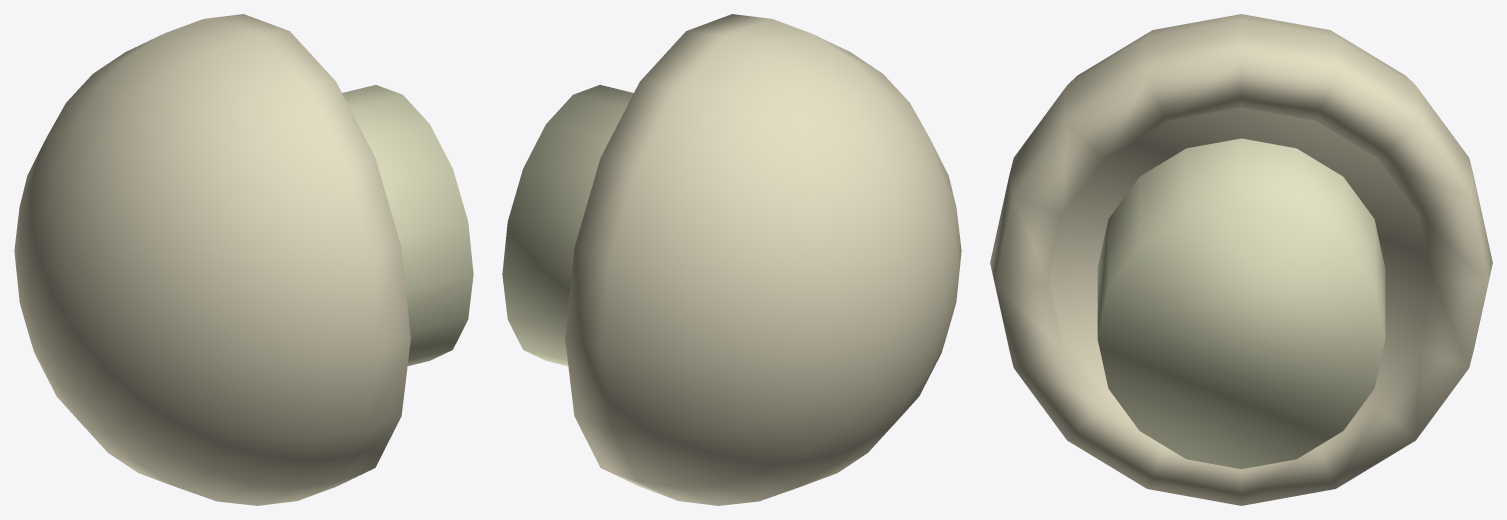
File: mushroom.fbx
The picture shows the model from 3 angles, left to right: view 1: azimuth 30°, elevation 25°; view 2: azimuth 150°, elevation 25°; view 3: azimuth 270°, elevation 25°; orthographic projection.
Visible parts, largest first — view 1: Mushroom; view 2: Mushroom; view 3: Mushroom.
Boxes of the visible parts, box(x1,y1,x2,y2) form: Mushroom: box(14, 14, 473, 505); Mushroom: box(502, 14, 961, 505); Mushroom: box(990, 14, 1492, 505).
Bounding box in the file's own units: 37.31 × 45 × 45.
